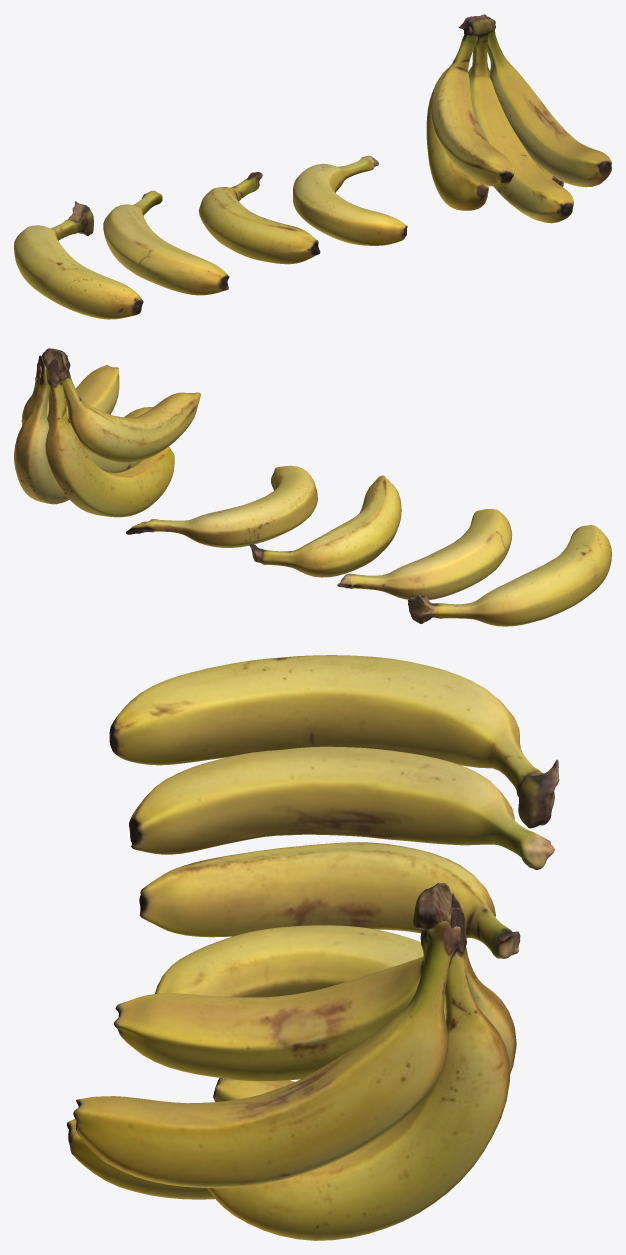
Rendered from rotten_banana.glb.
The picture shows the model from 3 angles, top to bottom: view 1: azimuth 30°, elevation 25°; view 2: azimuth 150°, elevation 25°; view 3: azimuth 270°, elevation 25°; orthographic projection. The views are drawn at different scales.
Parts seen in each view (by area): view 1: bananas_bunch, bananas_d, bananas_c, bananas_a, bananas_b; view 2: bananas_bunch, bananas_d, bananas_c, bananas_a, bananas_b; view 3: bananas_bunch, bananas_d, bananas_c, bananas_b, bananas_a.
Boxes of the visible parts, x1,y1,x2,y2 form: bananas_bunch: (426, 14, 611, 223); bananas_d: (14, 201, 143, 319); bananas_c: (103, 190, 229, 295); bananas_a: (293, 155, 407, 245); bananas_b: (198, 172, 320, 264); bananas_bunch: (14, 348, 200, 517); bananas_d: (408, 525, 611, 626); bananas_c: (337, 509, 511, 600); bananas_a: (126, 465, 317, 547); bananas_b: (249, 475, 401, 577); bananas_bunch: (67, 882, 516, 1240); bananas_d: (109, 655, 559, 828); bananas_c: (129, 746, 554, 869); bananas_b: (139, 842, 520, 958); bananas_a: (155, 925, 423, 997).
Size of the model in its own units: 0.6 by 0.1788 by 0.2441.
1 material, 1 textured.
